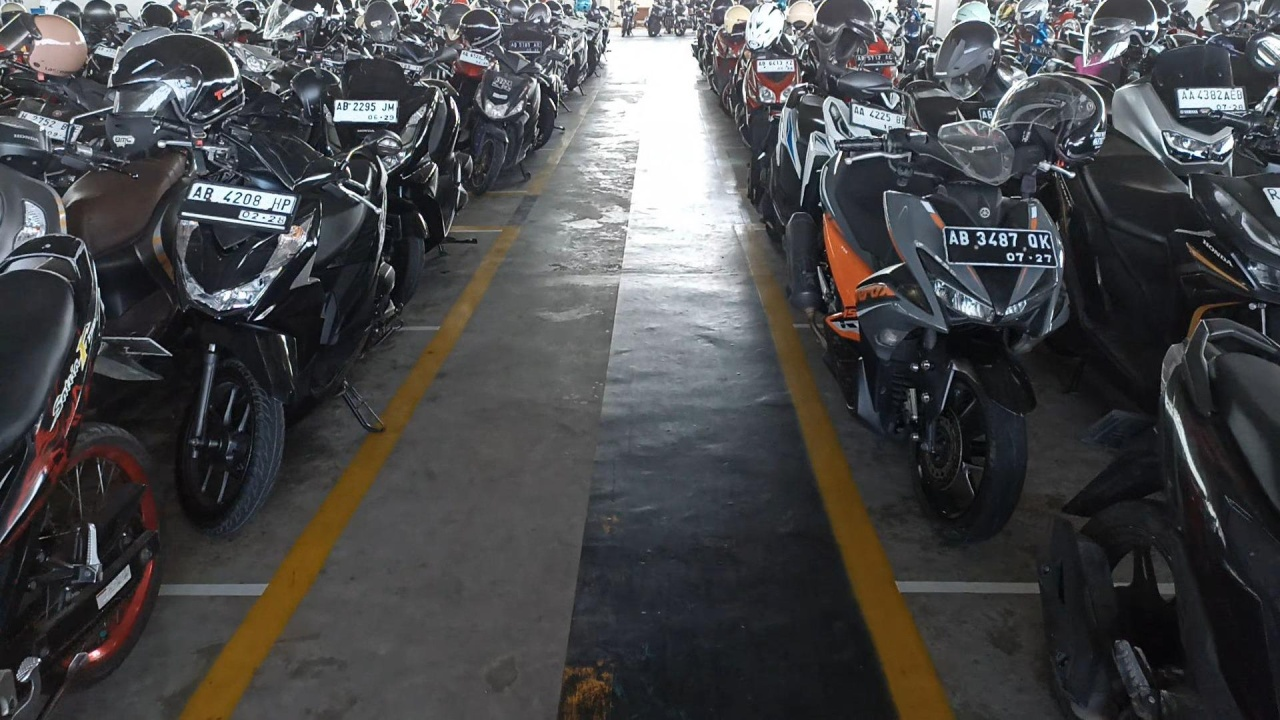plate: (180, 181, 299, 230), (943, 226, 1059, 268), (1176, 86, 1249, 117), (334, 99, 399, 123)
